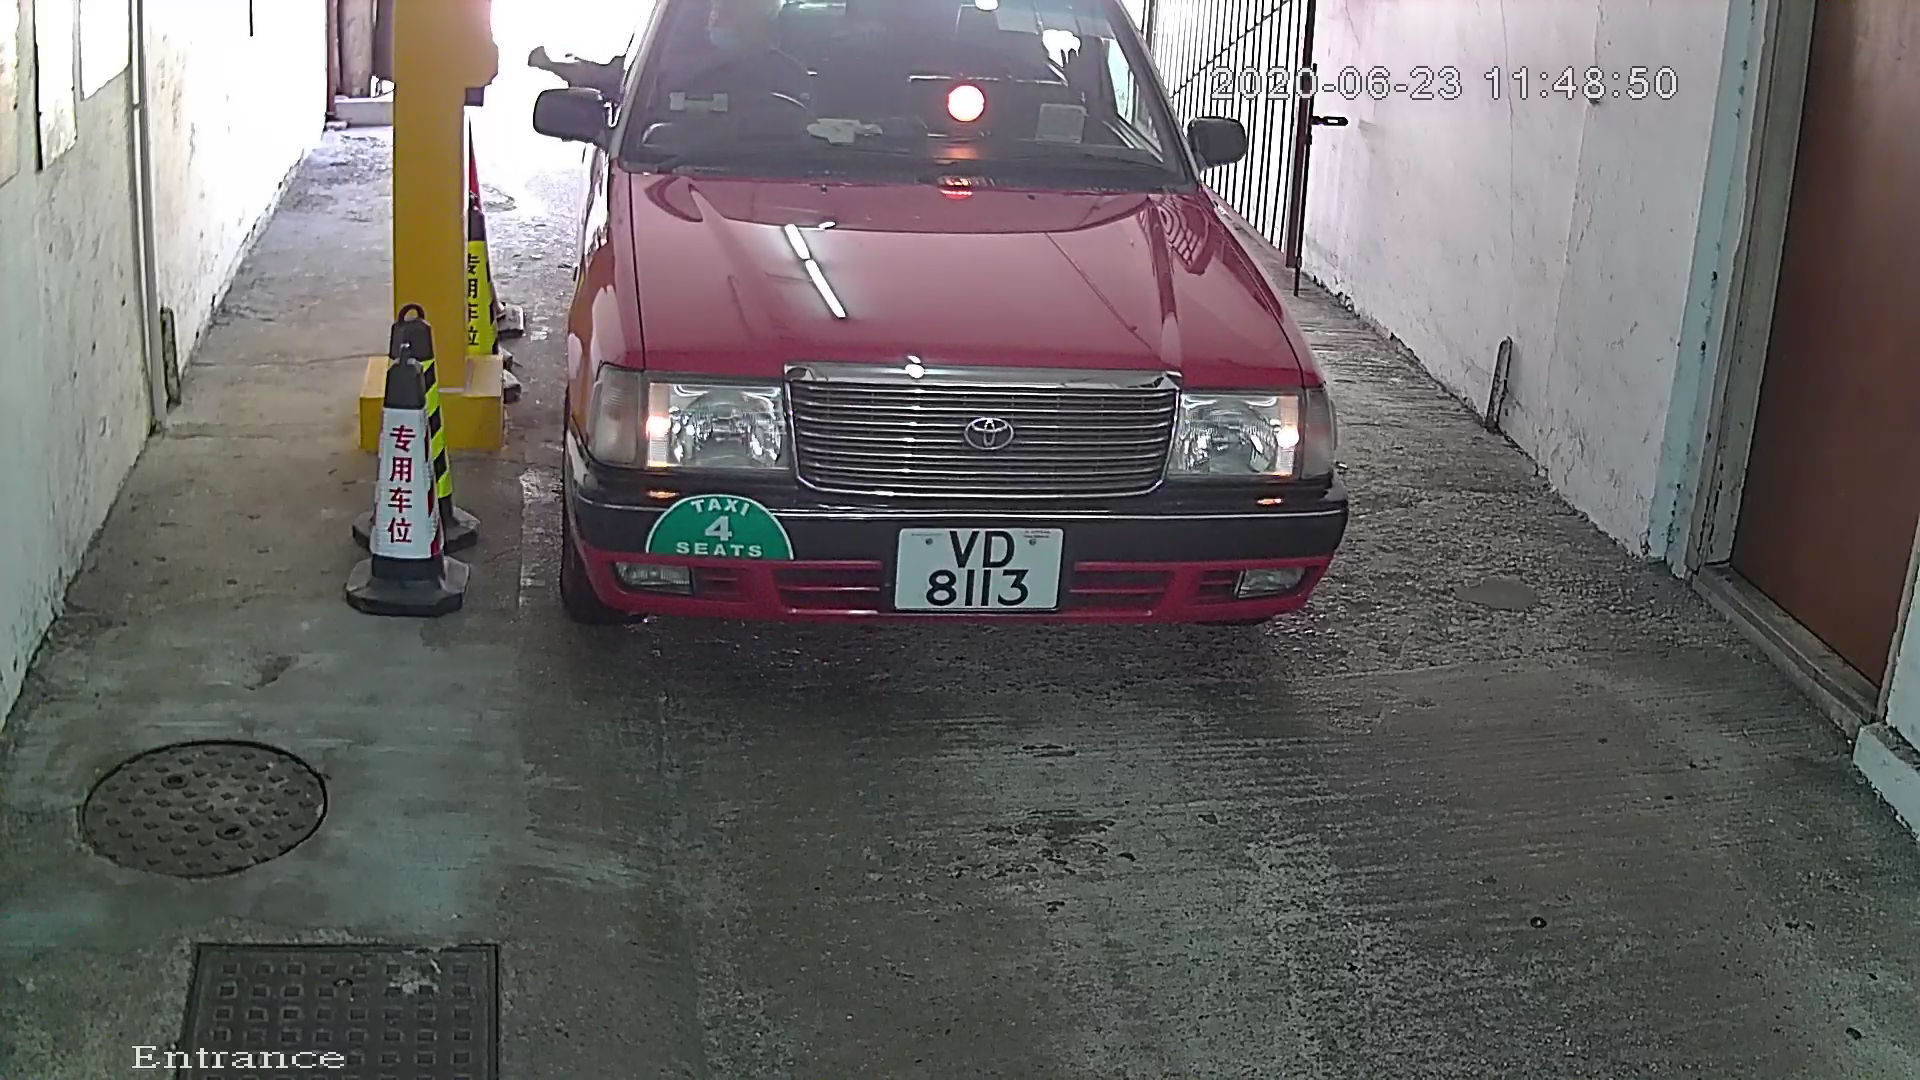taxi: (516, 3, 1375, 705)
taxi_mark: (621, 465, 835, 593)
